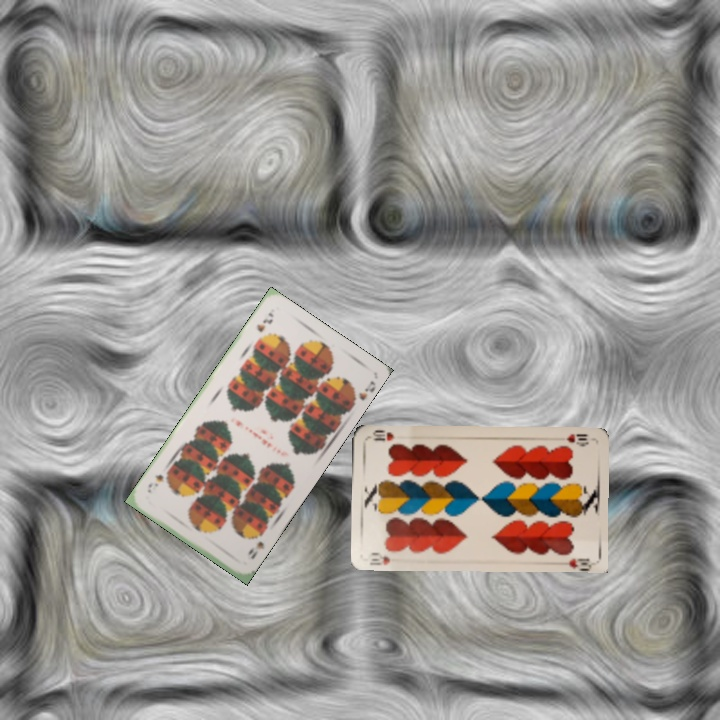H10: (562, 430, 591, 448), (366, 548, 393, 567)
S9: (244, 527, 267, 562), (252, 308, 276, 335)
